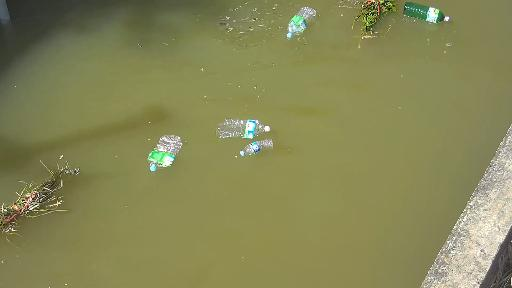plastic: (269, 6, 331, 35), (142, 132, 185, 172), (205, 117, 274, 136), (400, 4, 456, 26), (230, 139, 289, 158)
twig: (0, 151, 90, 240), (350, 0, 401, 38)
